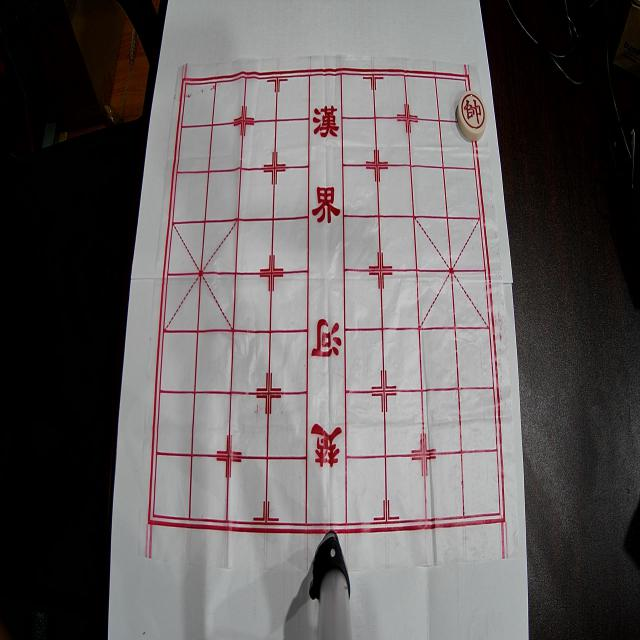red-general: (457, 91, 487, 141)
